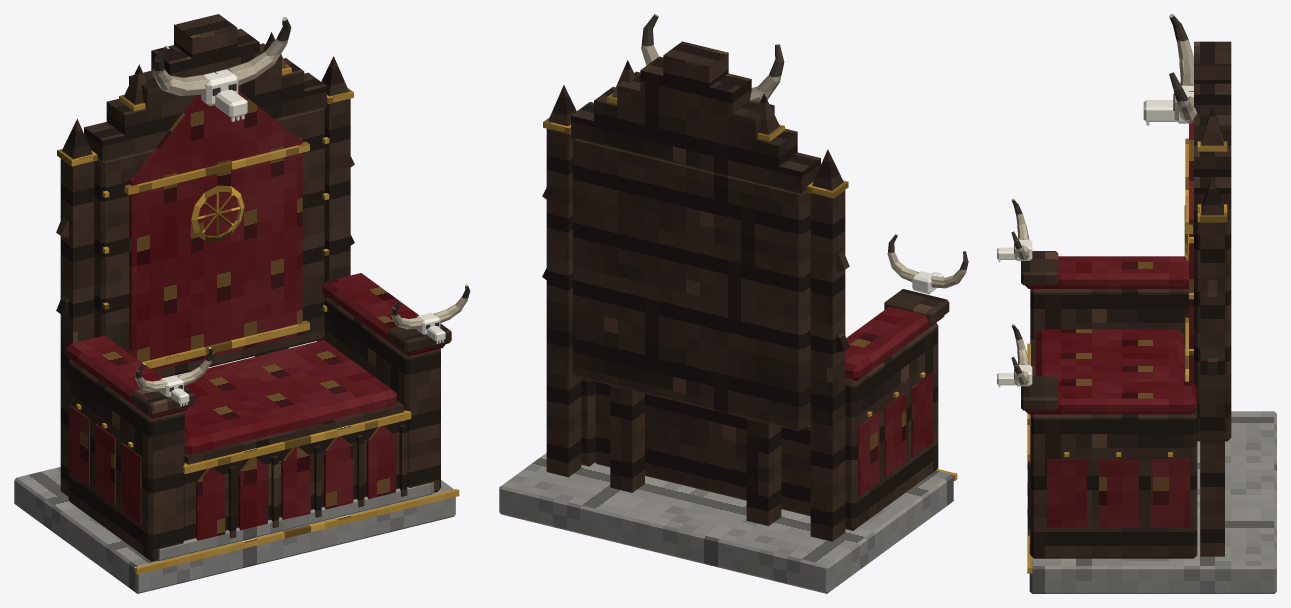
Rendered from boss_throne.glb.
The picture shows the model from 3 angles, left to right: view 1: azimuth 30°, elevation 25°; view 2: azimuth 150°, elevation 25°; view 3: azimuth 270°, elevation 25°; orthographic projection. The views are drawn at different scales.
Visible parts, largest first — view 1: body; view 2: body; view 3: body.
Boxes of the visible parts, <box> form: body: <box>14,14,470,593</box>; body: <box>499,14,968,593</box>; body: <box>997,14,1276,593</box>.
Size of the model in its own units: 3.12 by 4.23 by 2.26.
7 materials, 5 textured.
